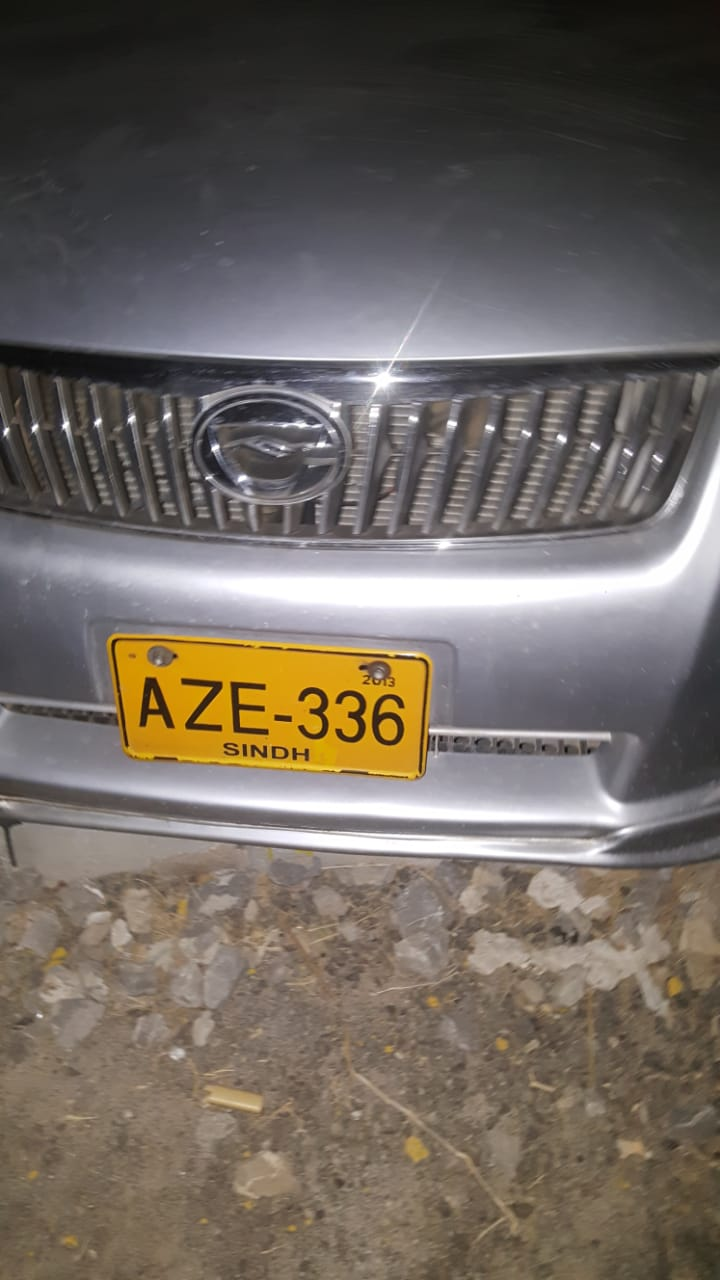license plate: (113, 634, 431, 778)
